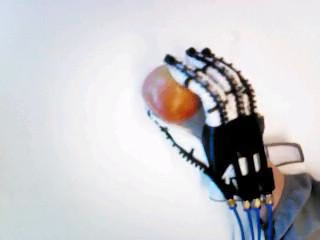apple: (141, 59, 201, 123)
hand: (143, 46, 272, 209)
